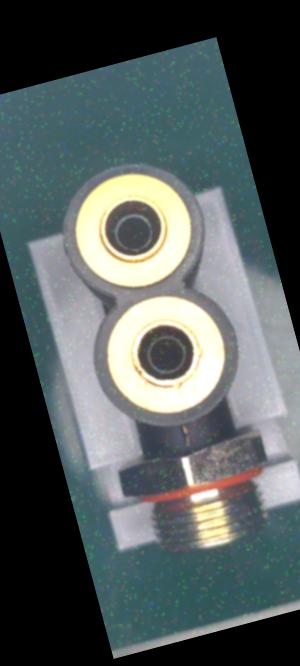craze: (174, 417, 199, 458)
